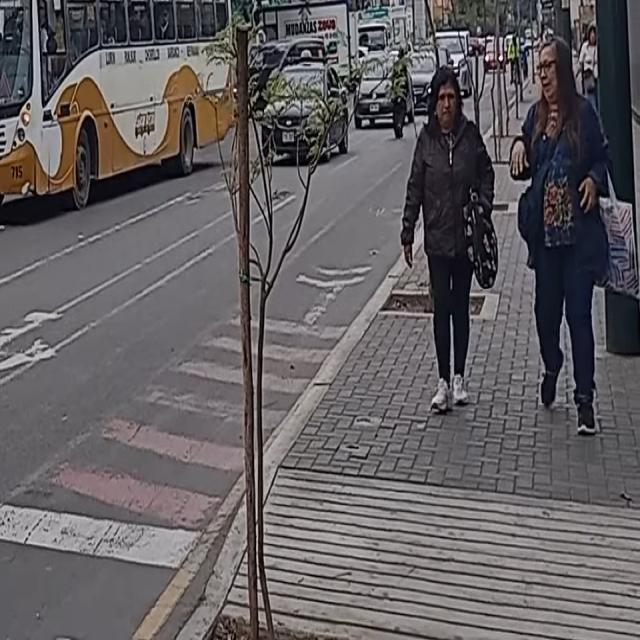bus: (0, 0, 238, 196)
car: (260, 61, 350, 160), (353, 56, 416, 122), (430, 29, 473, 96), (404, 48, 437, 110), (483, 43, 506, 72)
